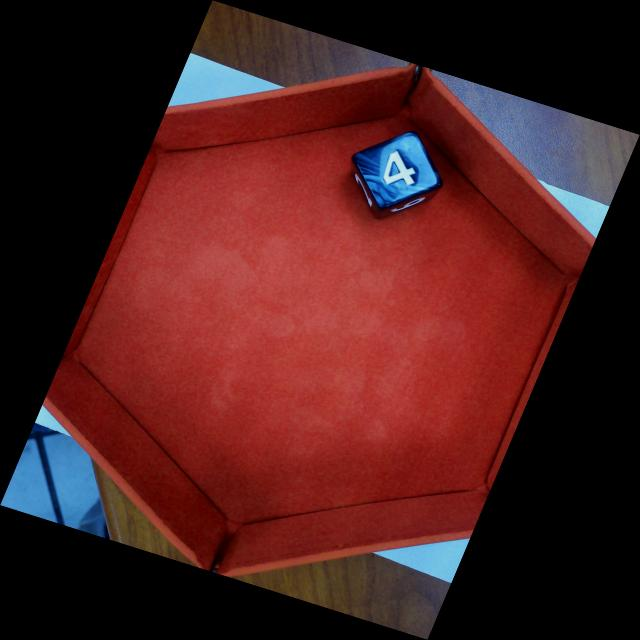dice: (350, 129, 447, 210)
